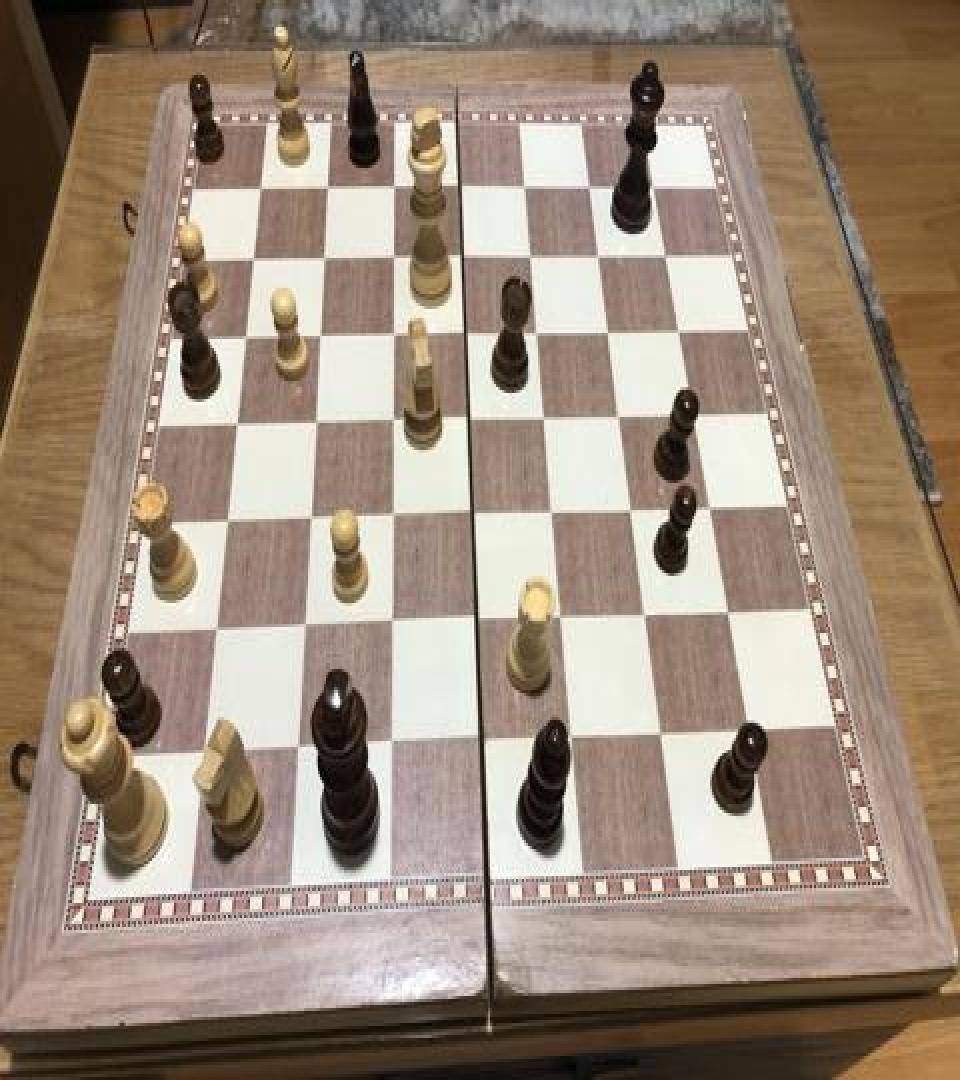xcorner: (647, 718, 671, 755), (467, 727, 491, 764), (642, 170, 666, 206), (578, 171, 602, 207), (513, 171, 537, 207), (448, 171, 472, 207), (382, 171, 406, 207), (316, 171, 340, 207), (249, 171, 273, 207), (654, 238, 678, 274), (587, 240, 611, 276), (519, 240, 543, 276), (450, 242, 474, 278), (381, 242, 405, 278), (312, 242, 336, 278), (241, 243, 265, 279), (667, 315, 691, 351), (596, 316, 620, 352), (525, 316, 549, 352), (453, 318, 477, 354), (380, 320, 404, 356), (307, 320, 331, 356), (233, 321, 257, 357), (681, 399, 705, 435), (607, 400, 631, 436), (532, 402, 556, 438), (456, 404, 480, 440), (379, 405, 403, 441), (302, 406, 326, 442), (224, 408, 248, 444), (697, 492, 721, 528), (619, 495, 643, 531), (539, 496, 563, 532), (459, 500, 483, 536), (378, 501, 402, 537), (297, 504, 321, 540), (214, 506, 238, 542), (715, 597, 739, 633), (632, 600, 656, 636), (548, 603, 572, 639), (463, 606, 487, 642), (377, 609, 401, 645), (290, 612, 314, 648), (202, 615, 226, 651), (735, 716, 759, 752), (558, 723, 582, 759), (376, 730, 400, 766), (283, 735, 307, 771), (189, 738, 213, 774)
